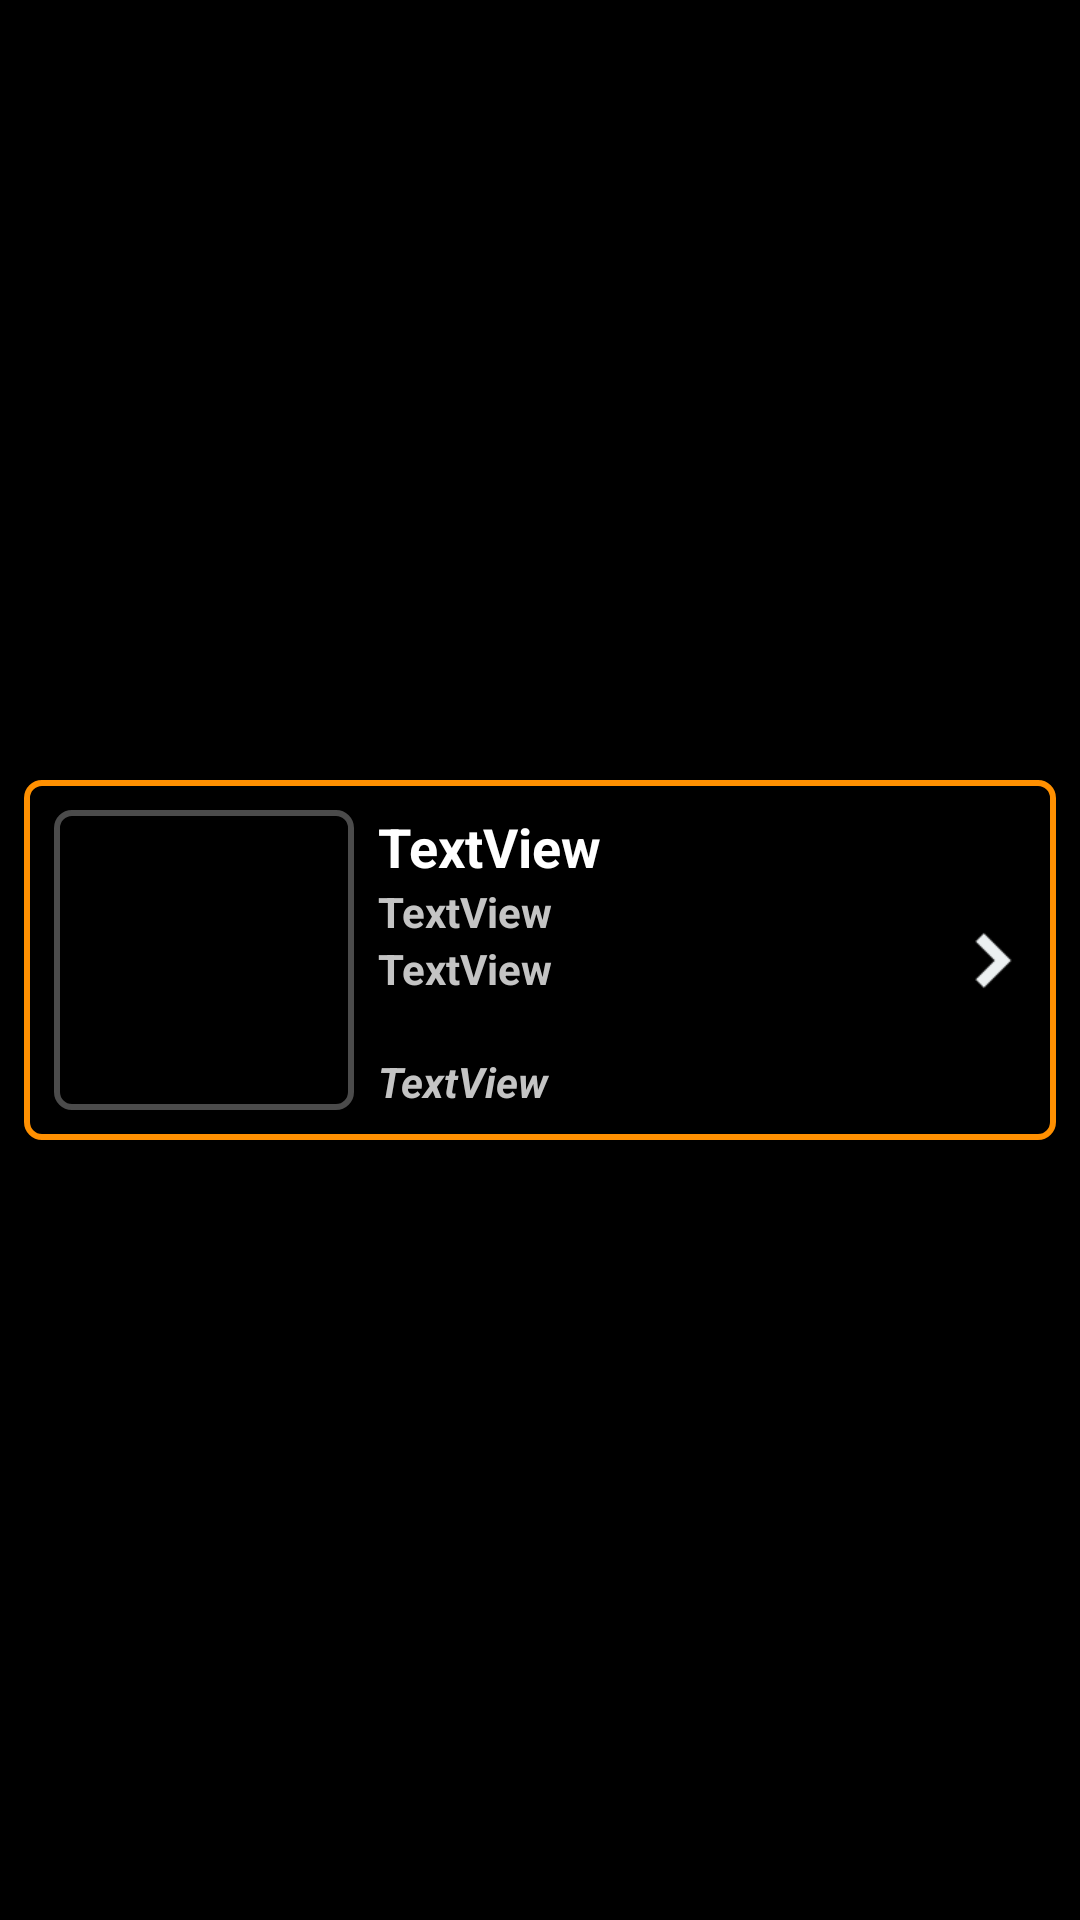

Icon bounding boxes for this 1080px×1920px phone screenshot, format (x1, y1, x2, y2):
arrow right: (975, 933, 1012, 988)
